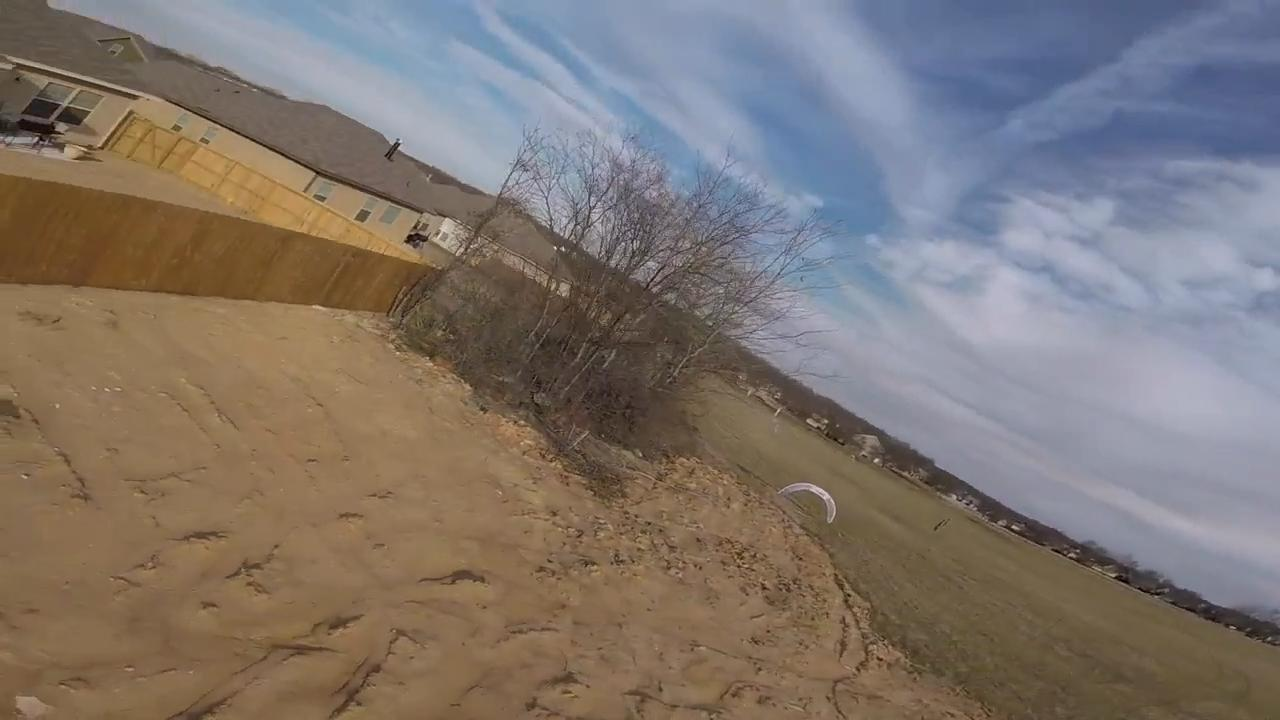gate: (777, 480, 836, 524)
